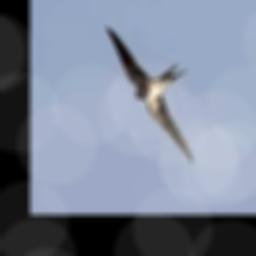Swallow: (105, 24, 194, 163)
